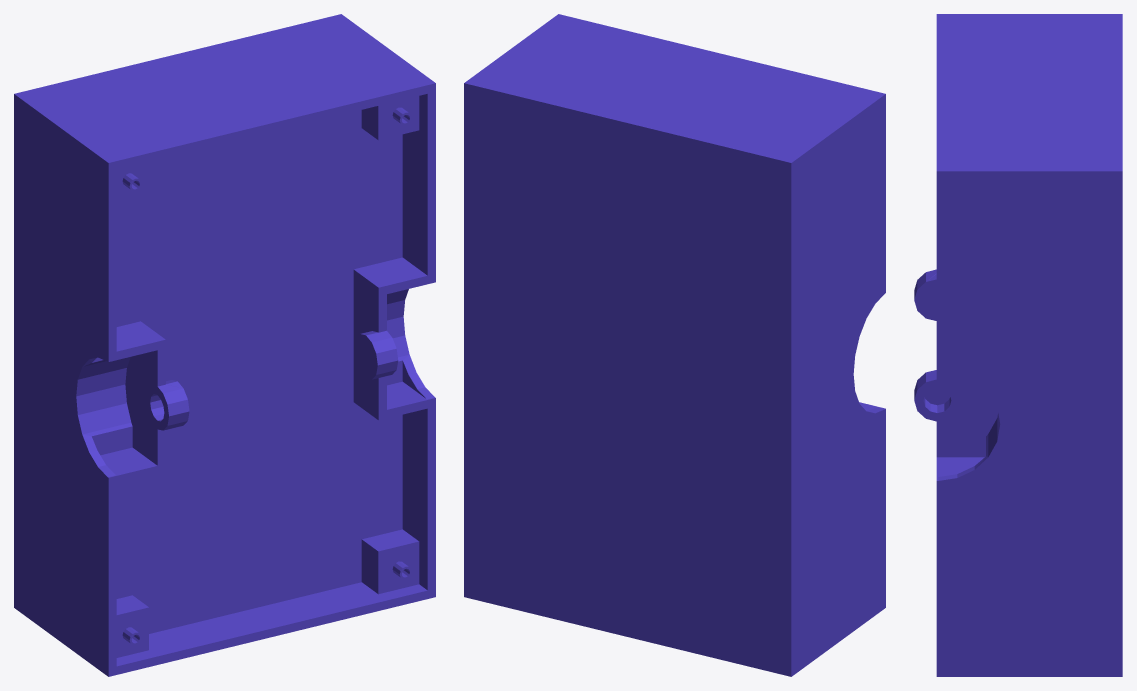
The model's file is frame.dae.
The picture shows the model from 3 angles, left to right: view 1: azimuth 30°, elevation 25°; view 2: azimuth 150°, elevation 25°; view 3: azimuth 270°, elevation 25°; orthographic projection.
Parts seen in each view (by area): view 1: Frame; view 2: Frame; view 3: Frame.
Part boxes in pixels (x1,y1,x2,y2): Frame: (14, 14, 435, 676); Frame: (464, 14, 885, 676); Frame: (914, 14, 1122, 676).
Bounding box in the file's own units: 400 × 224 × 600.
